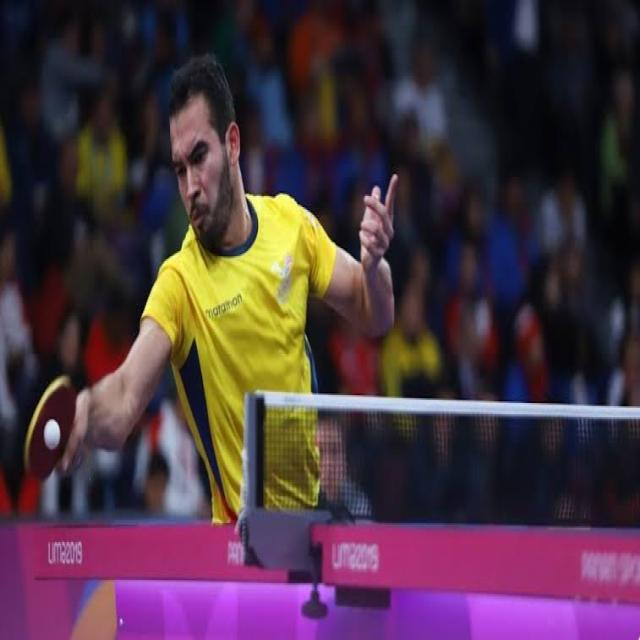TT Net: (242, 386, 639, 532)
TT Racket: (14, 350, 85, 500)
